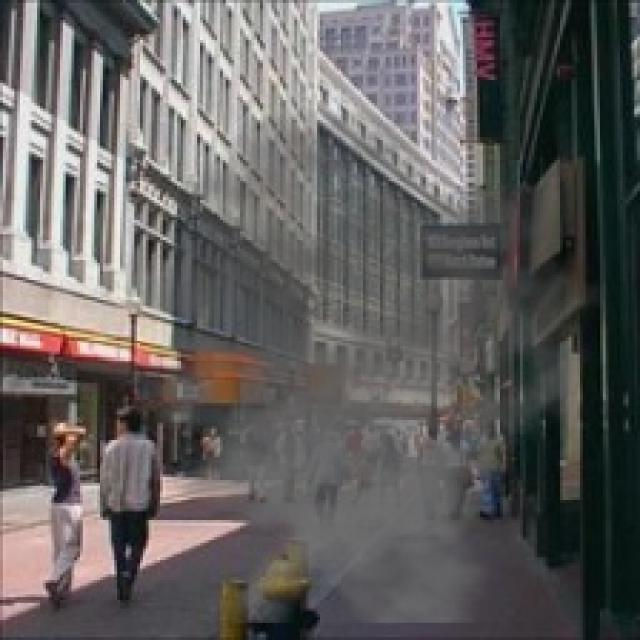smoke: (86, 106, 608, 623)
